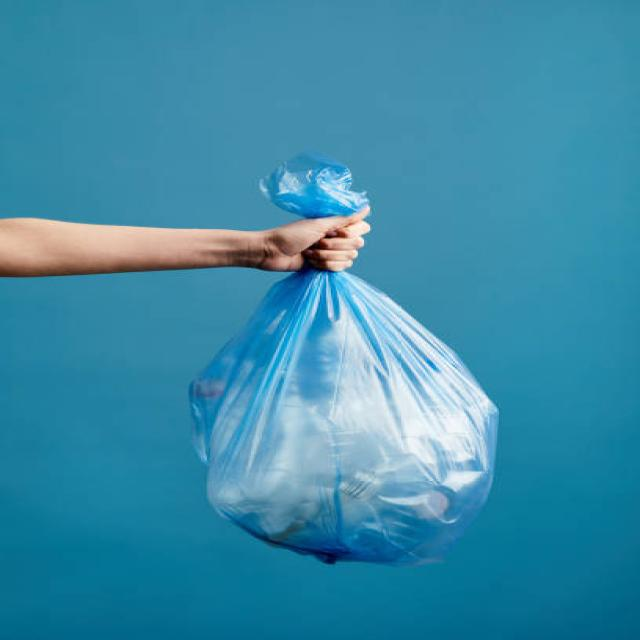trash: (177, 159, 505, 587)
